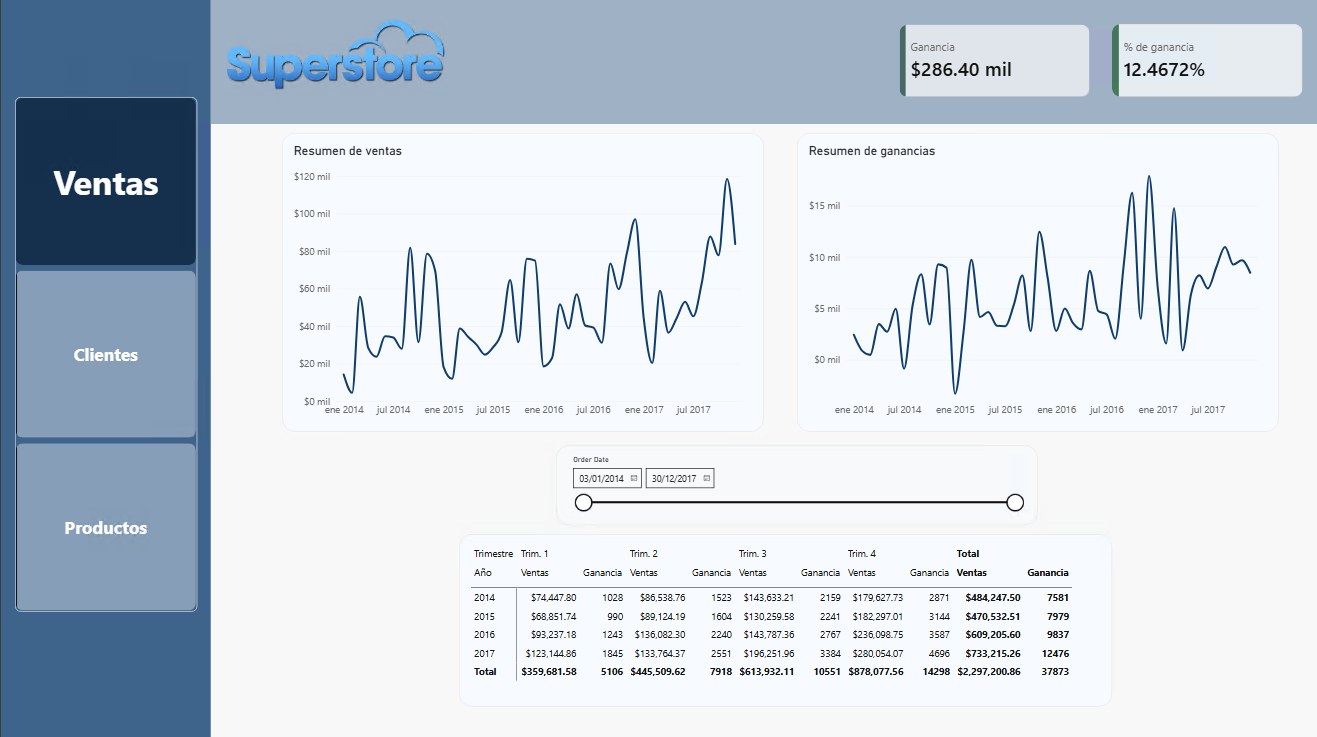

The page's visual inventory and layout, read from the dashboard file:
{"tool":"powerbi","page":{"name":"Ventas","canvas":[1920,1080],"ordinal":0},"visuals":[{"type":"shape","box":[306.4,0,1613.6,183.8],"z":0},{"type":"shape","box":[0,0,306.4,1079.6],"z":1000},{"type":"image","box":[306.4,19,361.8,125.5],"z":2000},{"type":"cardVisual","fields":{"Data":["Medidas.Ganancia"]},"box":[1310.2,37.9,278.7,106.5],"z":3000},{"type":"pageNavigator","box":[20.4,144.4,265.5,751.4],"z":4000},{"type":"slicer","fields":{"Values":["sale.Order Date"]},"box":[809.7,652.2,703.2,116.7],"z":5000},{"type":"pivotTable","fields":{"Columns":["sale.Order Date.Variación.Jerarquía de fechas.Trimestre"],"Rows":["sale.Order Date.Variación.Jerarquía de fechas.Año"],"Values":["Sum(sale.Sales)","Sum(sale.Quantity)"]},"box":[668.2,782,952.7,252.4],"z":6000},{"type":"lineChart","title":"Resumen de ganancias","fields":{"Category":["sale.Order Date.Variación.Jerarquía de fechas.Año","sale.Order Date.Variación.Jerarquía de fechas.Trimestre","sale.Order Date.Variación.Jerarquía de fechas.Mes","sale.Order Date.Variación.Jerarquía de fechas.Día"],"Y":["Sum(sale.Profit)"]},"box":[1161.3,197,703.2,436.2],"z":7000},{"type":"lineChart","title":"Resumen de ventas","fields":{"Category":["sale.Order Date.Variación.Jerarquía de fechas.Año","sale.Order Date.Variación.Jerarquía de fechas.Trimestre","sale.Order Date.Variación.Jerarquía de fechas.Mes","sale.Order Date.Variación.Jerarquía de fechas.Día"],"Y":["Sum(sale.Sales)"]},"box":[410,197,703.2,436.2],"z":8000},{"type":"cardVisual","fields":{"Data":["Medidas.% de ganancia"]},"box":[1620.9,37.9,278.7,106.5],"z":9000}]}

Visuals, with their boxes in screenshot pixels (x1, y1, x2, y2), scaled from the page's 1920x1080 canvas onto the 1317x737 screenshot:
shape: <bbox>210, 0, 1316, 125</bbox>
shape: <bbox>0, 0, 210, 736</bbox>
image: <bbox>210, 13, 458, 99</bbox>
cardVisual - Medidas.Ganancia: <bbox>899, 26, 1090, 99</bbox>
pageNavigator: <bbox>14, 99, 196, 611</bbox>
slicer - sale.Order Date: <bbox>555, 445, 1038, 525</bbox>
pivotTable - sale.Order Date.Variación.Jerarquía de fechas.Trimestre x sale.Order Date.Variación.Jerarquía de fechas.Año: <bbox>458, 534, 1112, 706</bbox>
"Resumen de ganancias" lineChart: <bbox>797, 134, 1279, 432</bbox>
"Resumen de ventas" lineChart: <bbox>281, 134, 764, 432</bbox>
cardVisual - Medidas.% de ganancia: <bbox>1112, 26, 1303, 99</bbox>
